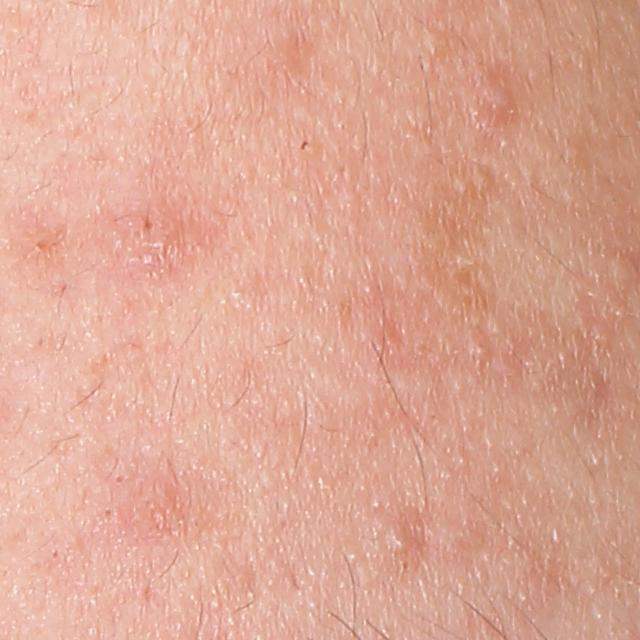comedo: (422, 31, 451, 57), (466, 339, 493, 363)
